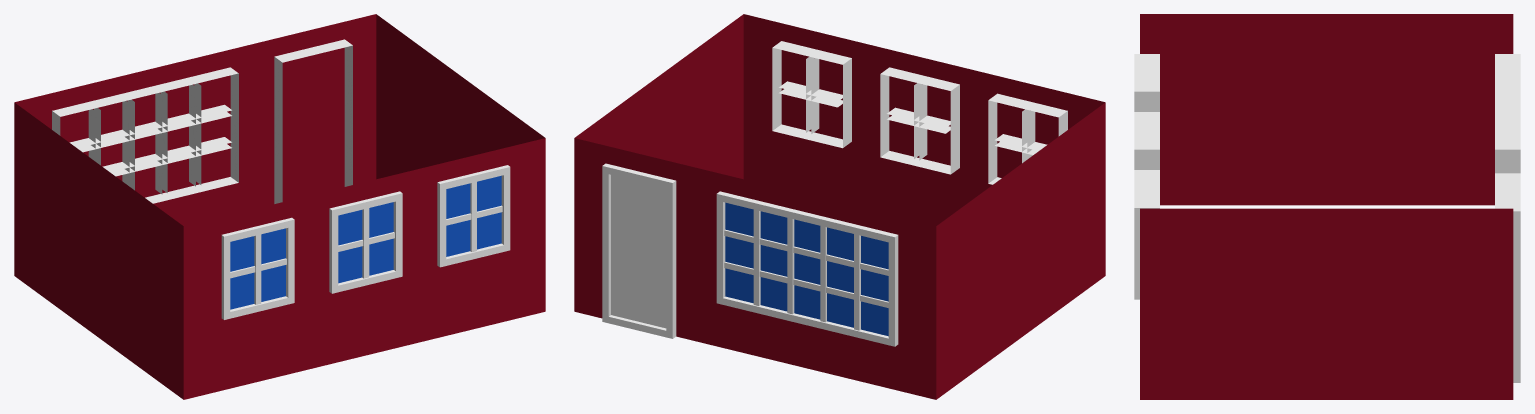
Rendered from CityBuildingB_02_base.fbx.
The picture shows the model from 3 angles, left to right: view 1: azimuth 30°, elevation 25°; view 2: azimuth 150°, elevation 25°; view 3: azimuth 270°, elevation 25°; orthographic projection. The views are drawn at different scales.
Visible parts, largest first — view 1: CityBuildingB_02_base; view 2: CityBuildingB_02_base; view 3: CityBuildingB_02_base.
Boxes of the visible parts, <box> form: CityBuildingB_02_base: <box>14,14,545,399</box>; CityBuildingB_02_base: <box>574,14,1105,399</box>; CityBuildingB_02_base: <box>1134,14,1520,399</box>.
Bounding box in the file's own units: 0.6706 × 0.3075 × 0.563.
